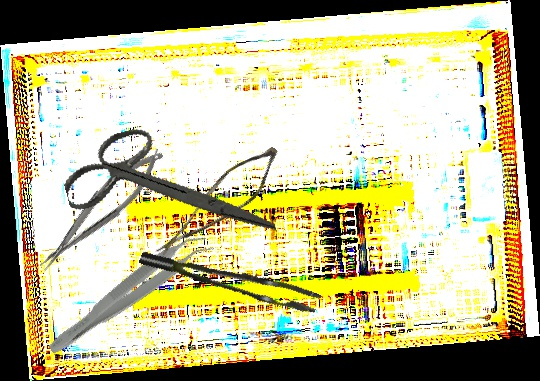Iris Scissors: (54, 100, 277, 280)
Micro Scissor: (153, 128, 287, 282)
Needle Holder: (27, 141, 174, 277)
Tissue Forceps: (43, 224, 216, 367), (138, 227, 322, 331)
